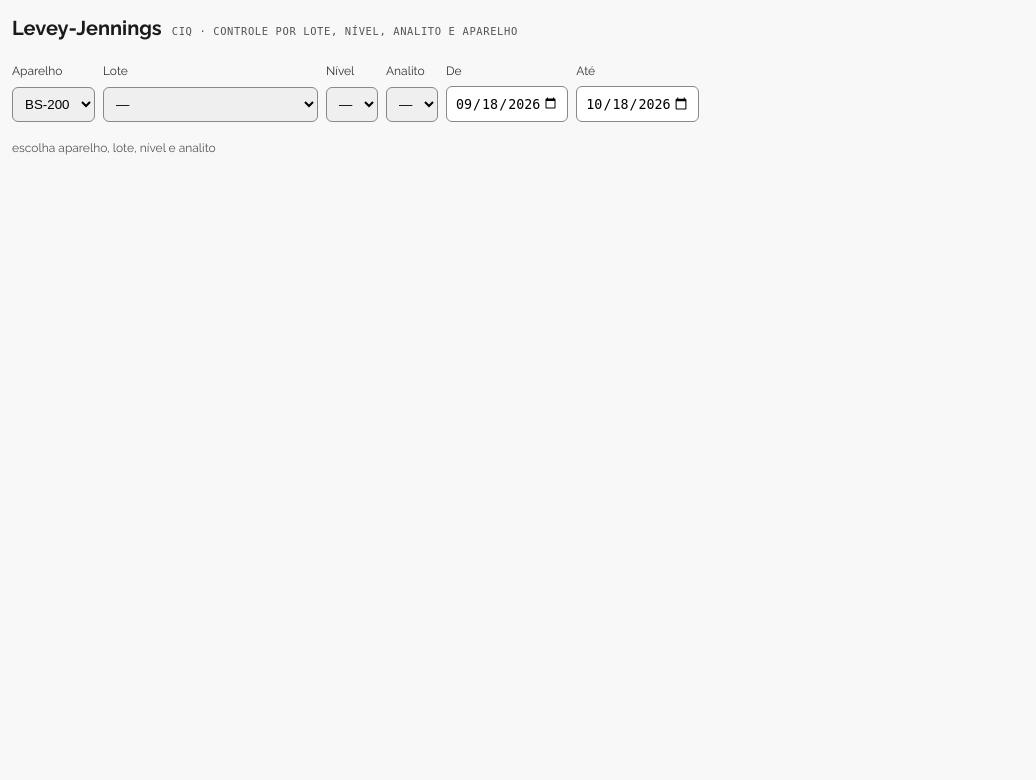
Test case: LabQcChart › período invertido não consulta
The width and height of the screenshot is (1036, 780).
Select "L2026A · Controle bioquímico" in the dropdown labelled "Lote" at (210, 104), box [103,87,318,122]
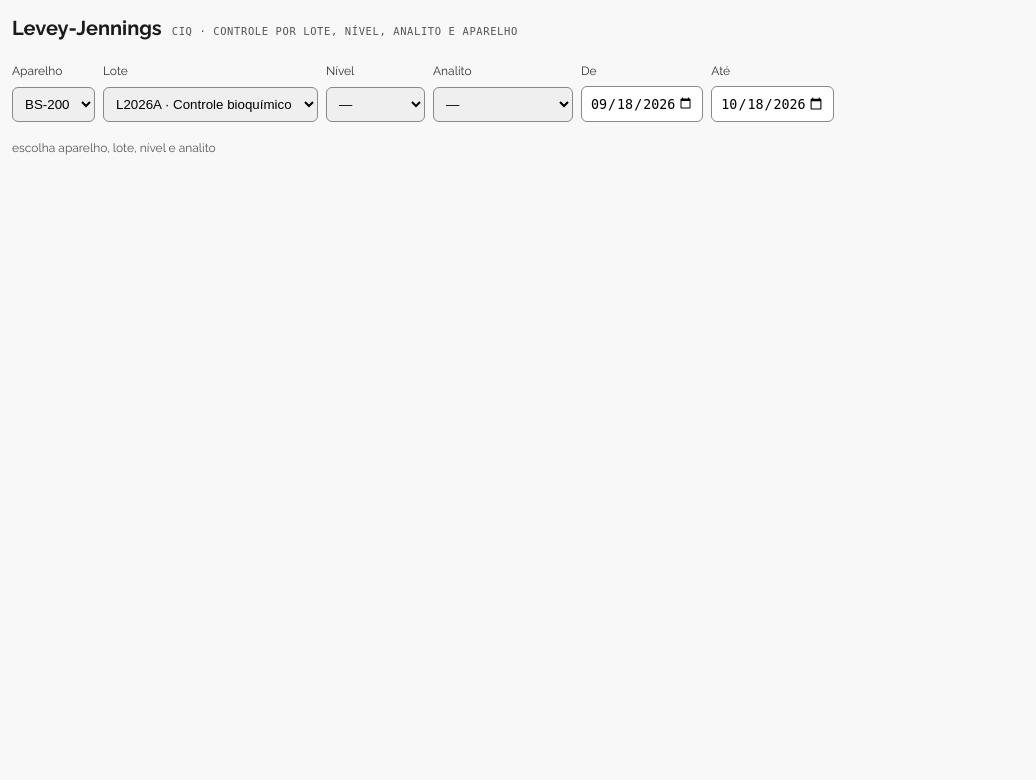
Select "normal" in the dropdown labelled "Nível" at (376, 104), box [326,87,425,122]
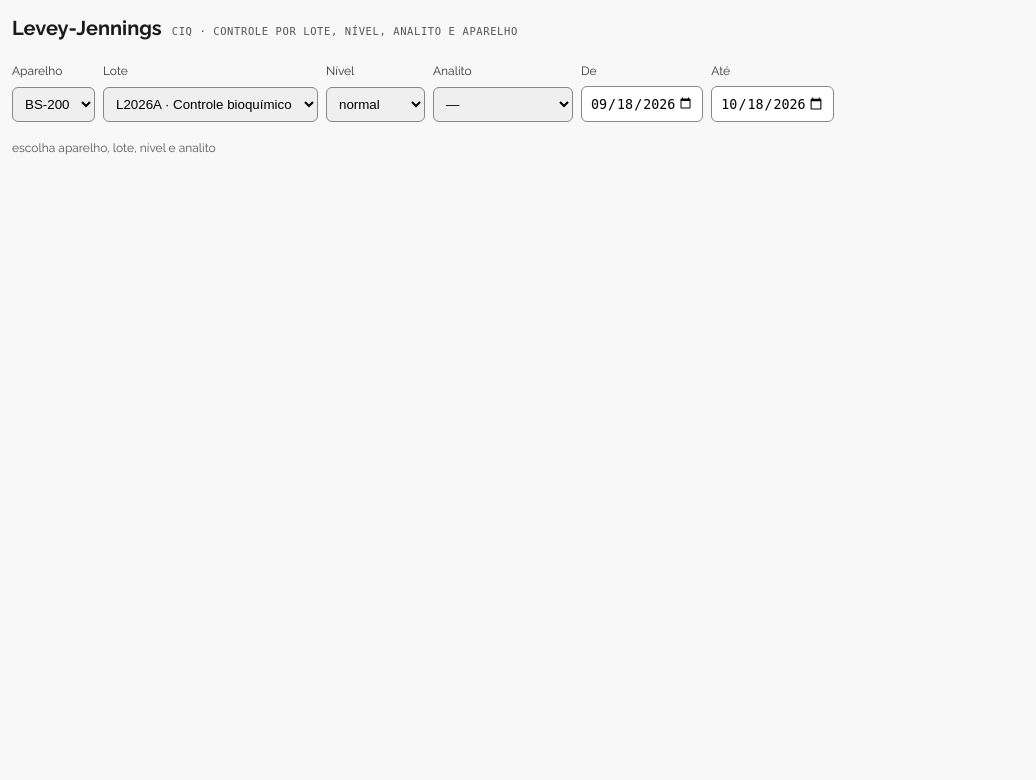
Select "Glicose (Glicose)" in the dropdown labelled "Analito" at (503, 104), box [433,87,573,122]
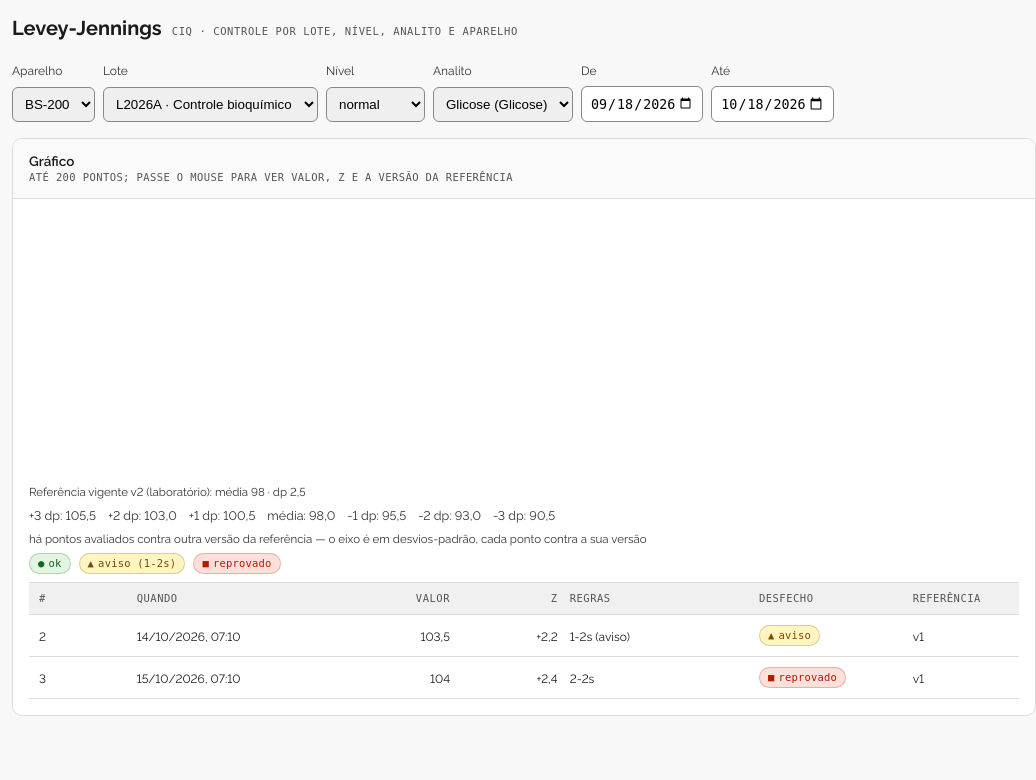
Type "2026-10-19" into the date field labelled "De" at (642, 104), box [581,86,703,122]
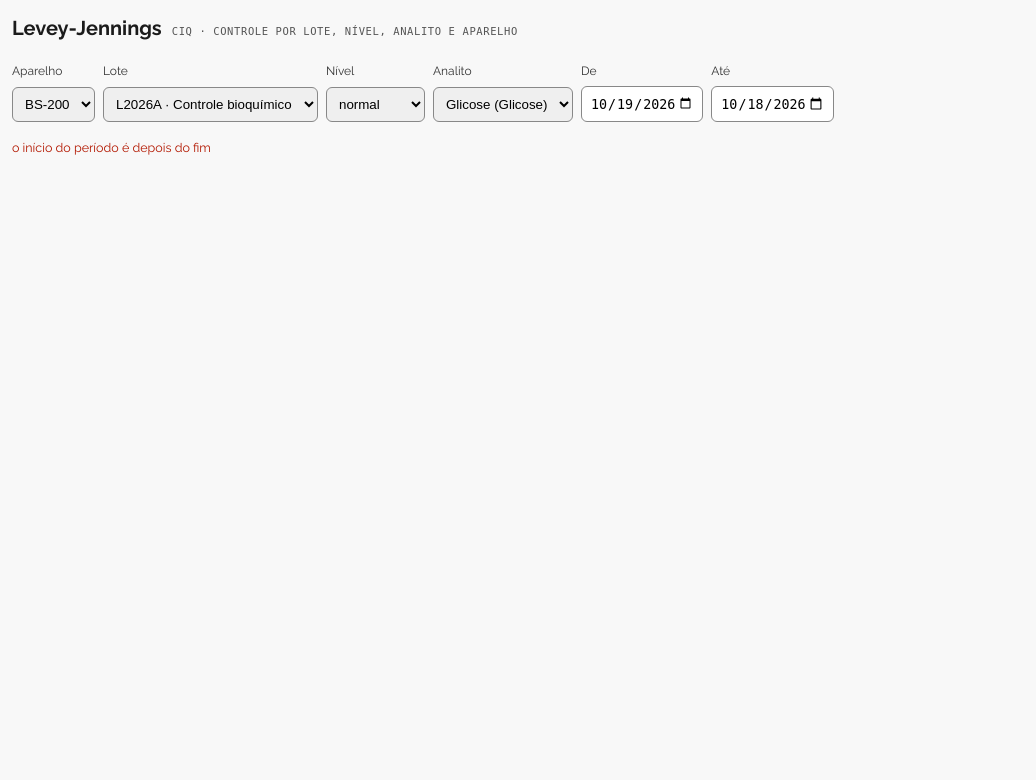
Result: the message reads "o início do período é depois do fim" at [12,138,211,155]
